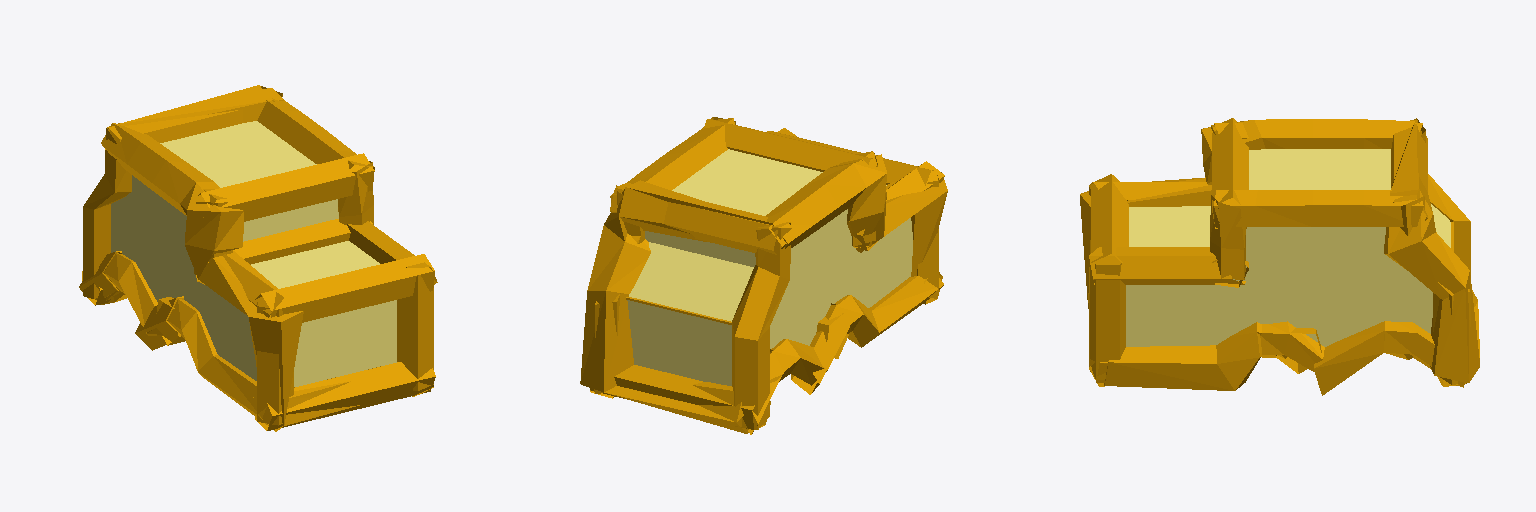
The picture shows the model from 3 angles: view 1: azimuth 30°, elevation 25°; view 2: azimuth 150°, elevation 25°; view 3: azimuth 270°, elevation 25°; orthographic projection.
Visible parts, largest first — view 1: DogShitOutline CarGroup, CarGroup Car; view 2: DogShitOutline CarGroup, CarGroup Car; view 3: DogShitOutline CarGroup, CarGroup Car.
Boxes of the visible parts, box(x1,y1,x2,y2) form: DogShitOutline CarGroup: box(79, 85, 437, 431); CarGroup Car: box(111, 121, 396, 386); DogShitOutline CarGroup: box(580, 117, 947, 434); CarGroup Car: box(627, 149, 912, 385); DogShitOutline CarGroup: box(1080, 118, 1479, 395); CarGroup Car: box(1126, 149, 1450, 346).
Size of the model in its own units: 3.47 by 3.61 by 6.41.
1 materials, 1 textured.